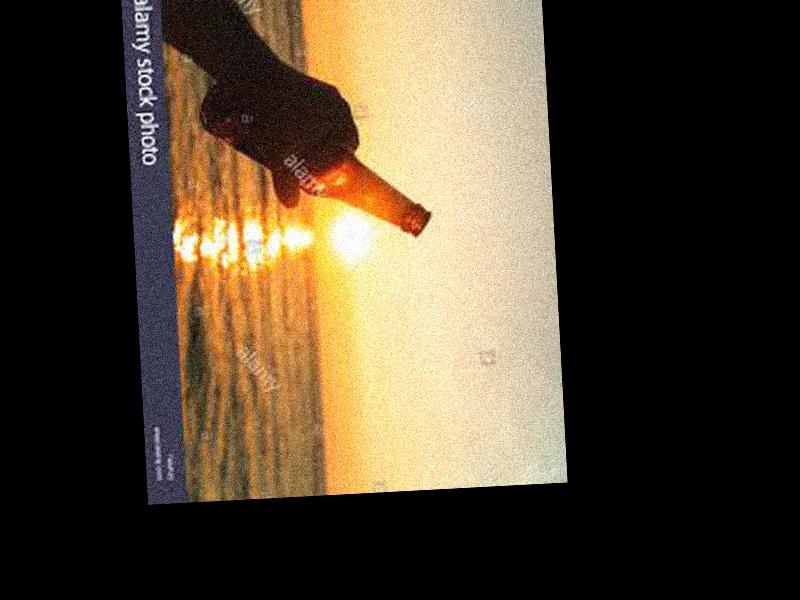Beer: (197, 66, 435, 247)
